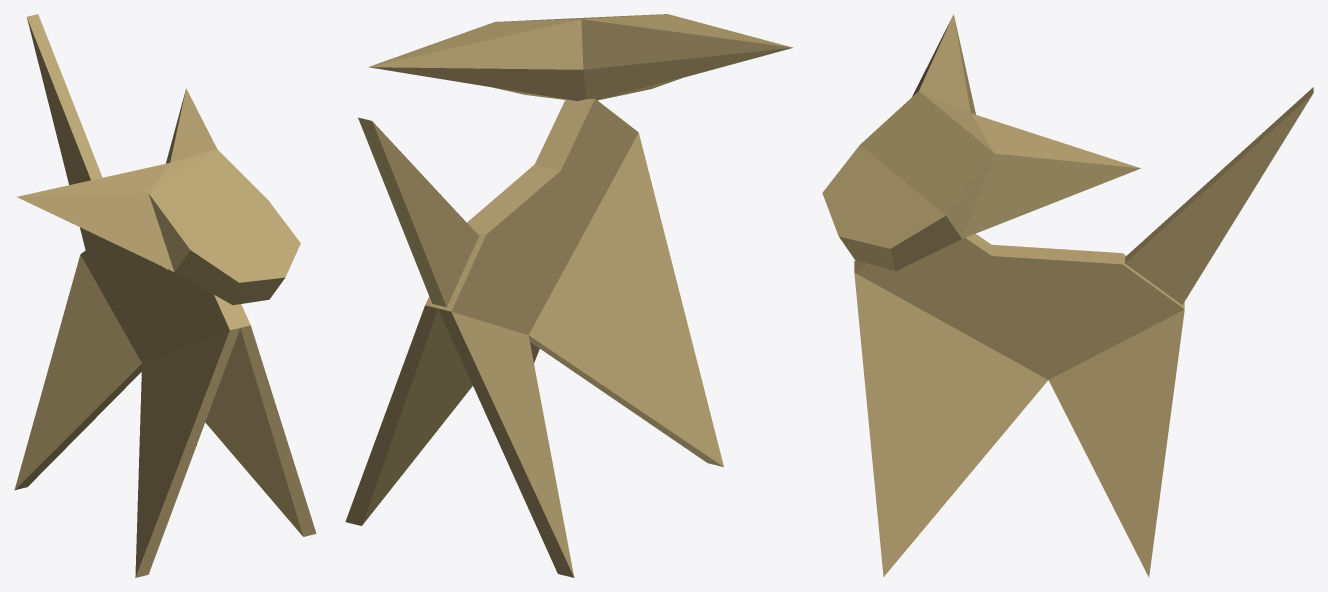
Rendered from trophycat.fbx.
3 views of the same model, side by side, from view 1: azimuth 30°, elevation 25°; view 2: azimuth 150°, elevation 25°; view 3: azimuth 270°, elevation 25° (orthographic). The views are drawn at different scales.
Visible parts, largest first — view 1: trophycat; view 2: trophycat; view 3: trophycat.
Boxes of the visible parts, x1,y1,x2,y2 form: trophycat: (14, 14, 316, 577); trophycat: (345, 14, 792, 577); trophycat: (822, 14, 1313, 577).
Bounding box in the file's own units: 117 × 165 × 167.
